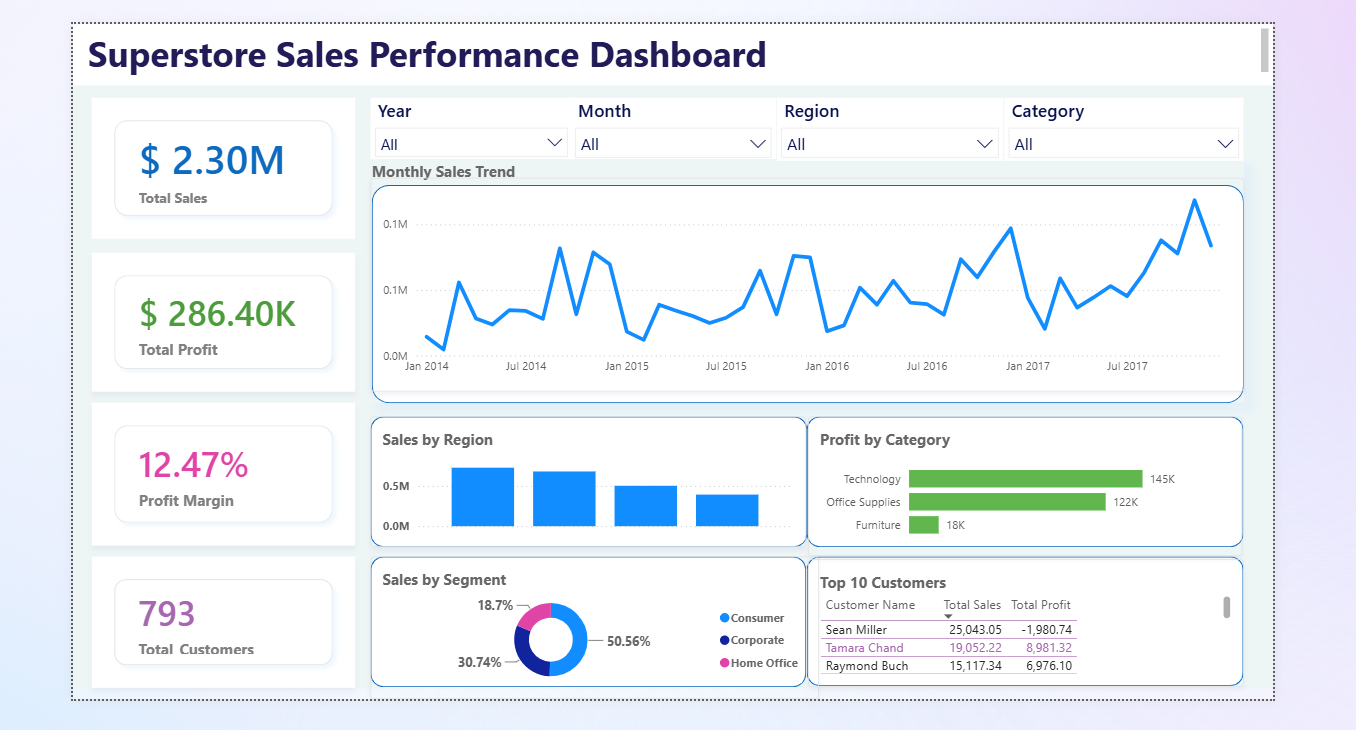

The dashboard page shown, as its layout file describes it:
{"tool":"powerbi","page":{"name":"Page 1","canvas":[1280,720],"ordinal":0},"visuals":[{"type":"shape","box":[0,54.3,1280,654.3],"z":0},{"type":"textbox","box":[0,0,1280.3,65.9],"z":1000},{"type":"cardVisual","fields":{"Data":["Sample - Superstore.Total_Sales"]},"box":[20,78.6,281.4,150],"z":2000},{"type":"cardVisual","fields":{"Data":["Sample - Superstore.Total_Profit"]},"box":[20,244.3,281.4,148.6],"z":3000},{"type":"cardVisual","fields":{"Data":["Sample - Superstore.Profit_Margin"]},"box":[20,404.3,281.4,152.9],"z":4000},{"type":"cardVisual","fields":{"Data":["Sample - Superstore.Total_Customers"]},"box":[20,568.6,281.4,140],"z":5000},{"type":"slicer","fields":{"Values":["Sample - Superstore.Clean_Order_Date.Variation.Date Hierarchy.Year"]},"box":[317,78.2,215.4,65.9],"z":6000},{"type":"slicer","fields":{"Values":["Sample - Superstore.Clean_Order_Date.Variation.Date Hierarchy.Month"]},"box":[531,78.2,219.6,65.9],"z":7000},{"type":"slicer","fields":{"Values":["Sample - Superstore.Region"]},"box":[750.6,78.2,241.5,67.2],"z":8000},{"type":"slicer","fields":{"Values":["Sample - Superstore.Category"]},"box":[992.9,78.3,255.6,67.3],"z":9000},{"type":"shape","title":"Monthly Sales Trend","box":[318.4,145.5,930.4,259.3],"z":10000},{"type":"lineChart","title":"Total Sales by Month","fields":{"Y":["Sample - Superstore.Total_Sales"],"Category":["Sample - Superstore.Clean_Order_Date.Variation.Date Hierarchy.Year","Sample - Superstore.Clean_Order_Date.Variation.Date Hierarchy.Month"]},"box":[317,164.7,931.7,227.8],"z":11000},{"type":"shape","box":[316.7,418.2,465.9,139.4],"z":12000},{"type":"shape","box":[782.6,418.2,465.9,139.4],"z":13000},{"type":"shape","box":[317.9,567.4,464.7,139.4],"z":14000},{"type":"shape","box":[782.6,567.4,465.9,138.2],"z":15000},{"type":"clusteredColumnChart","title":" Sales by Region","fields":{"Category":["Sample - Superstore.Region"],"Y":["Sample - Superstore.Total_Sales"]},"box":[317.9,418.2,464.7,139.4],"z":16000},{"type":"clusteredBarChart","title":" Profit by Category","fields":{"Y":["Sum(Sample - Superstore.Profit)"],"Category":["Sample - Superstore.Category"]},"box":[783.8,418.2,463.5,149.2],"z":17000},{"type":"donutChart","title":"Sales by Segment","fields":{"Category":["Sample - Superstore.Segment"],"Y":["Sample - Superstore.Total_Sales"]},"box":[317.9,568.6,478.1,151.6],"z":18000},{"type":"tableEx","title":"Top 10 Customers","fields":{"Values":["Sample - Superstore.Customer Name","Sample - Superstore.Total_Sales","Sample - Superstore.Total_Profit"]},"box":[783.8,571.1,464.7,135.7],"z":19000}]}

Visuals, with their boxes on the page's 1280x720 design canvas (x1, y1, x2, y2). These are canvas units, not pixel positions in the 1356x730 screenshot, which may show the page scaled, cropped or inside an application window:
shape: 0:54:1280:709
textbox: 0:0:1280:66
cardVisual - Sample - Superstore.Total_Sales: 20:79:301:229
cardVisual - Sample - Superstore.Total_Profit: 20:244:301:393
cardVisual - Sample - Superstore.Profit_Margin: 20:404:301:557
cardVisual - Sample - Superstore.Total_Customers: 20:569:301:709
slicer - Sample - Superstore.Clean_Order_Date.Variation.Date Hierarchy.Year: 317:78:532:144
slicer - Sample - Superstore.Clean_Order_Date.Variation.Date Hierarchy.Month: 531:78:751:144
slicer - Sample - Superstore.Region: 751:78:992:145
slicer - Sample - Superstore.Category: 993:78:1248:146
"Monthly Sales Trend" shape: 318:146:1249:405
"Total Sales by Month" lineChart: 317:165:1249:392
shape: 317:418:783:558
shape: 783:418:1248:558
shape: 318:567:783:707
shape: 783:567:1248:706
" Sales by Region" clusteredColumnChart: 318:418:783:558
" Profit by Category" clusteredBarChart: 784:418:1247:567
"Sales by Segment" donutChart: 318:569:796:720
"Top 10 Customers" tableEx: 784:571:1248:707
